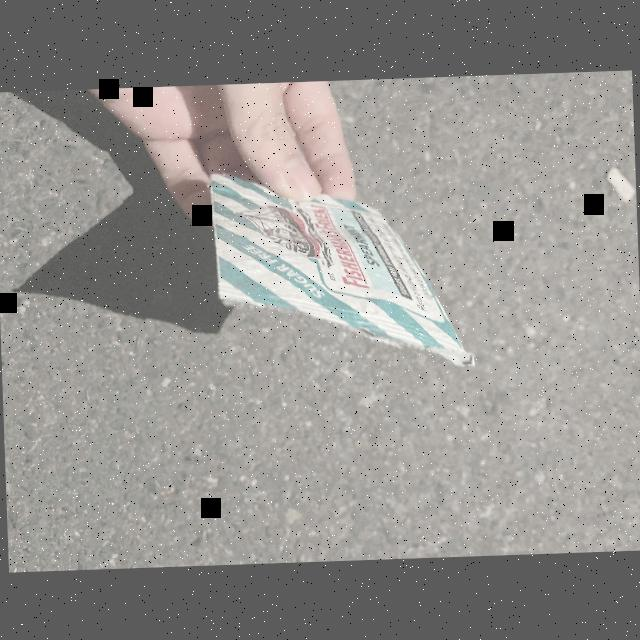snack_bag: (192, 140, 488, 402)
